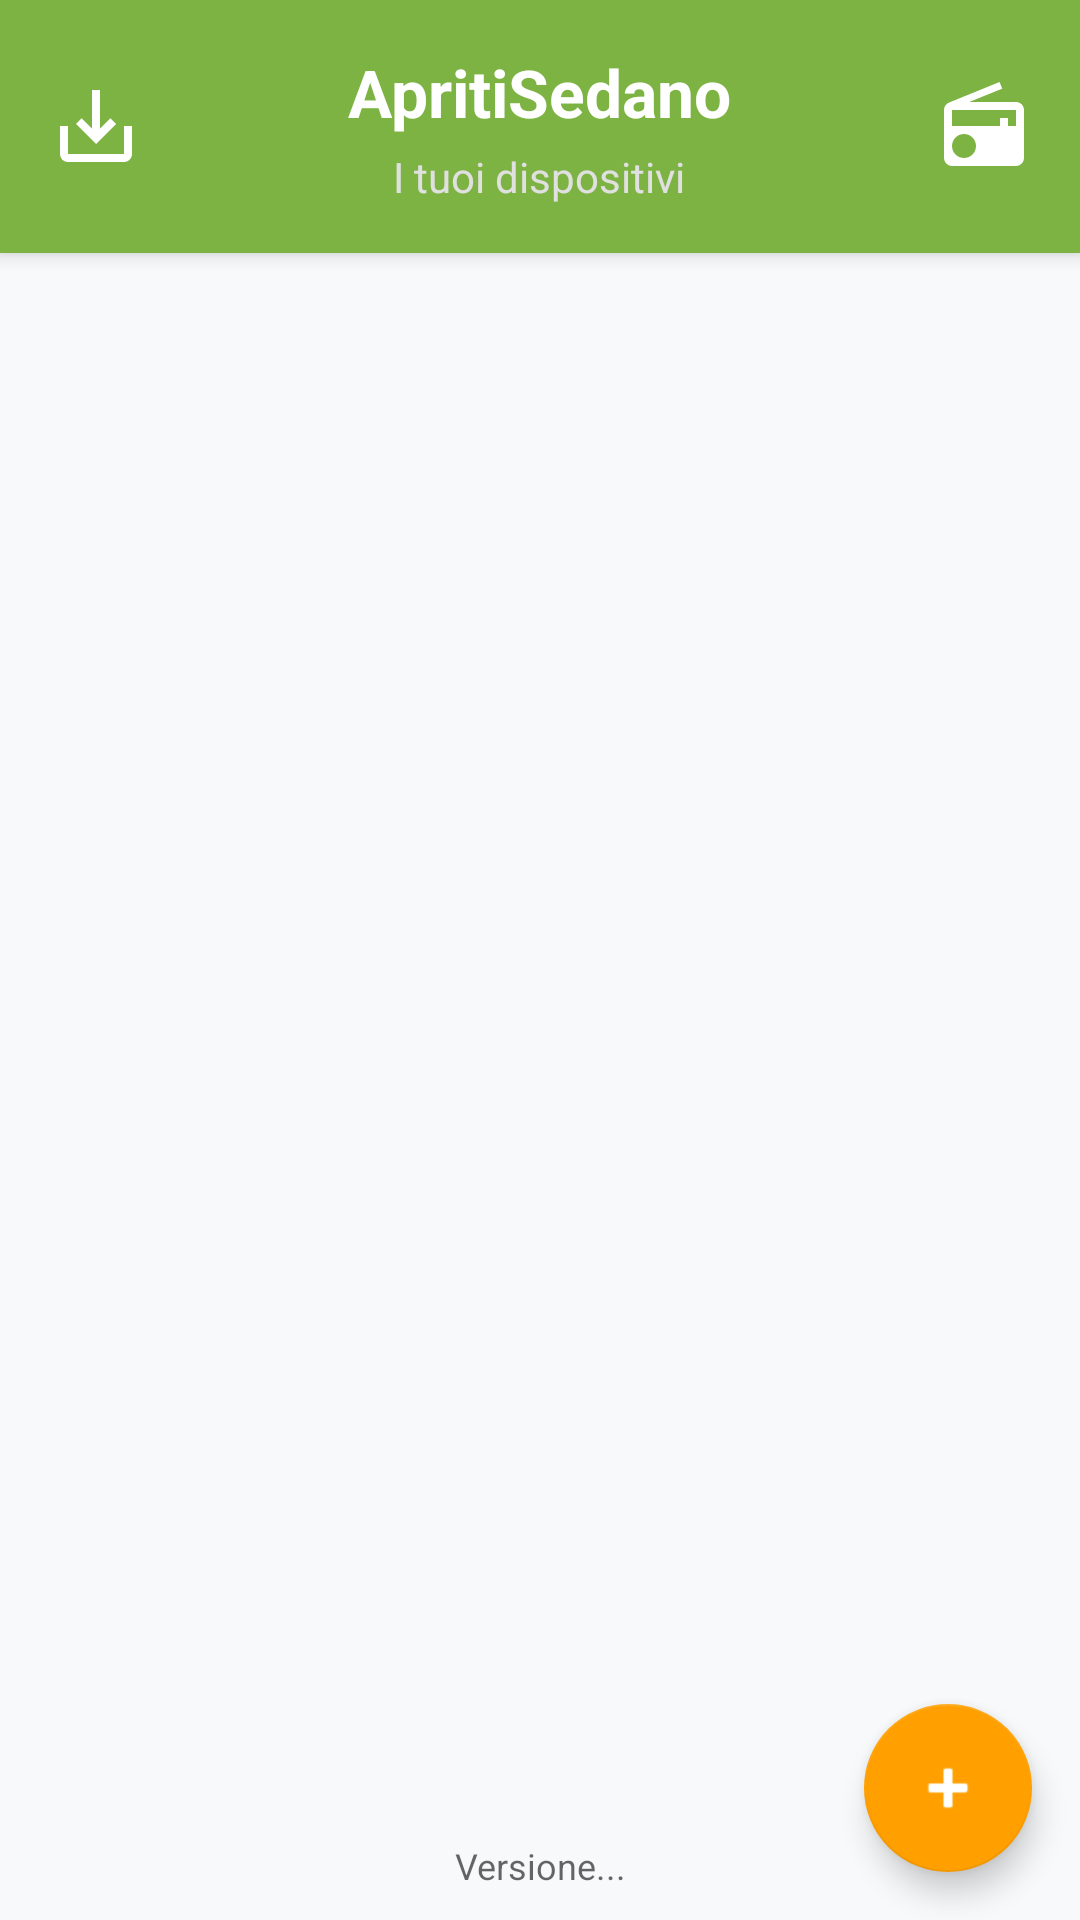

Screen size 1080 x 1920. Icon name, then its center in pixels as point (x, y):
Aggiungi dispositivo: point (948, 1788)
Backup ed Export Globale Seed: point (96, 126)
